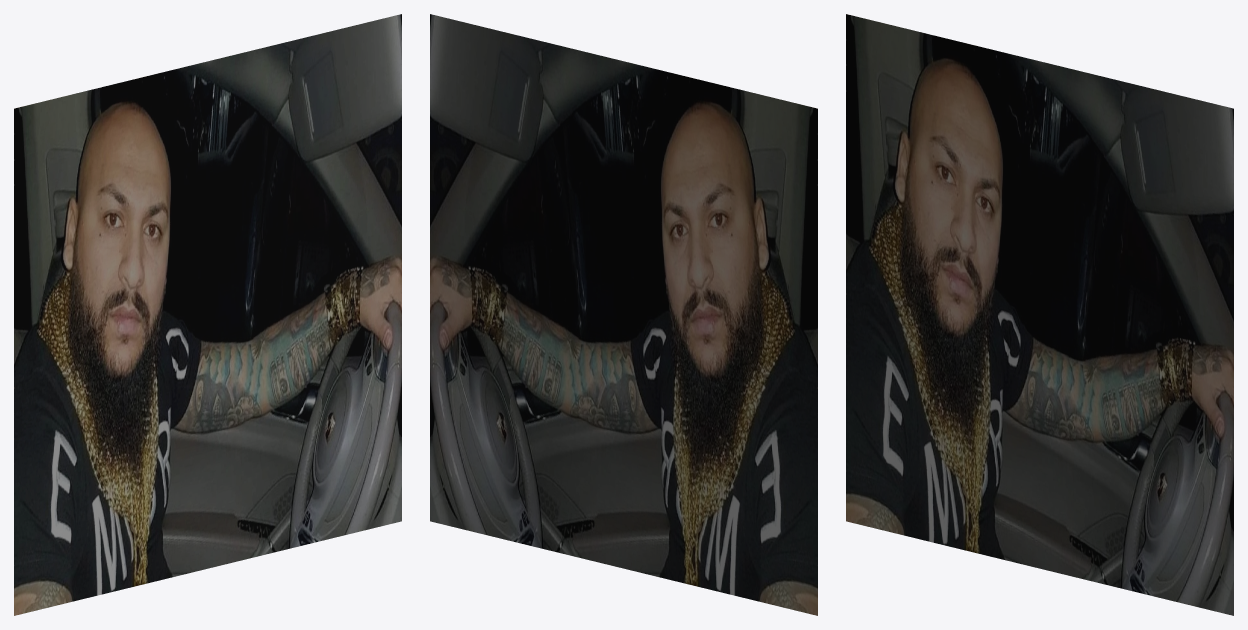
Rendered from danutu.glb.
The picture shows the model from 3 angles, left to right: view 1: azimuth 30°, elevation 25°; view 2: azimuth 150°, elevation 25°; view 3: azimuth 330°, elevation 25°; orthographic projection.
Visible parts, largest first — view 1: node-0; view 2: node-0; view 3: node-0.
Boxes of the visible parts, x1,y1,x2,y2 form: node-0: (14,14,401,615); node-0: (430,14,817,615); node-0: (846,14,1233,615).
Size of the model in its own units: 381 by 476 by 0.
1 material, 1 textured.
